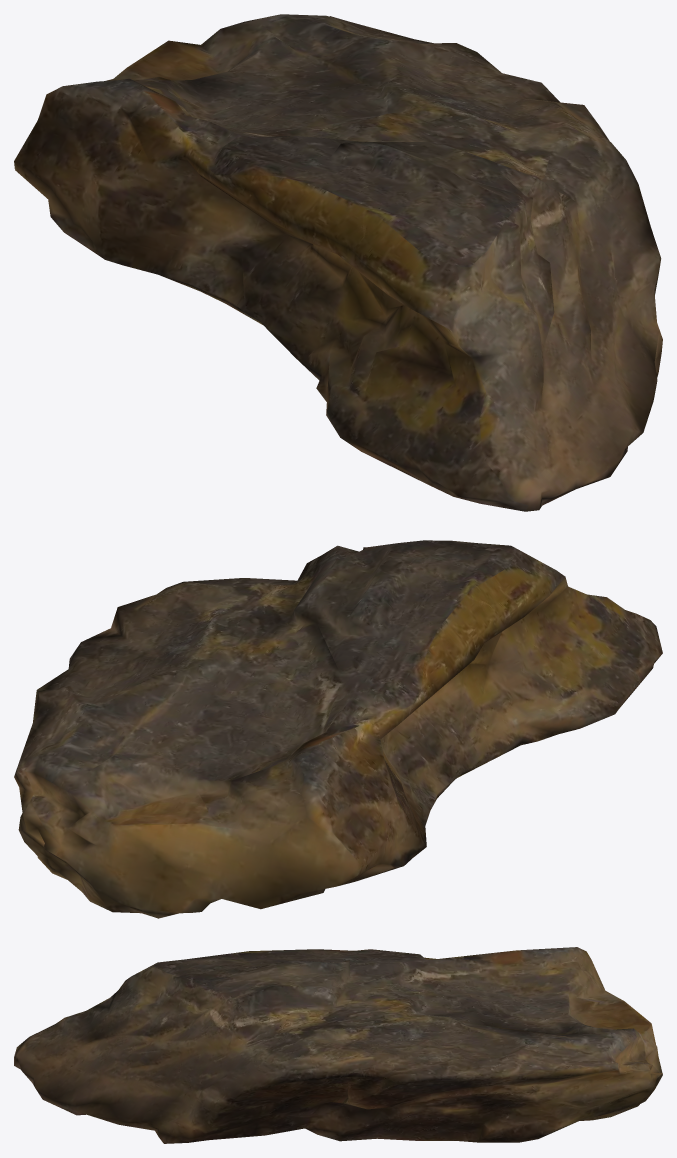
File: roca_09.glb
The picture shows the model from 3 angles, top to bottom: view 1: azimuth 30°, elevation 25°; view 2: azimuth 150°, elevation 25°; view 3: azimuth 270°, elevation 25°; orthographic projection. The views are drawn at different scales.
Parts seen in each view (by area): view 1: rock_09_LOD0; view 2: rock_09_LOD0; view 3: rock_09_LOD0.
Boxes of the visible parts, <box> form: rock_09_LOD0: <box>14,14,662,511</box>; rock_09_LOD0: <box>14,540,662,918</box>; rock_09_LOD0: <box>14,947,662,1143</box>.
Bounding box in the file's own units: 0.0738 × 0.0326 × 0.1446.
1 material, 1 textured.
